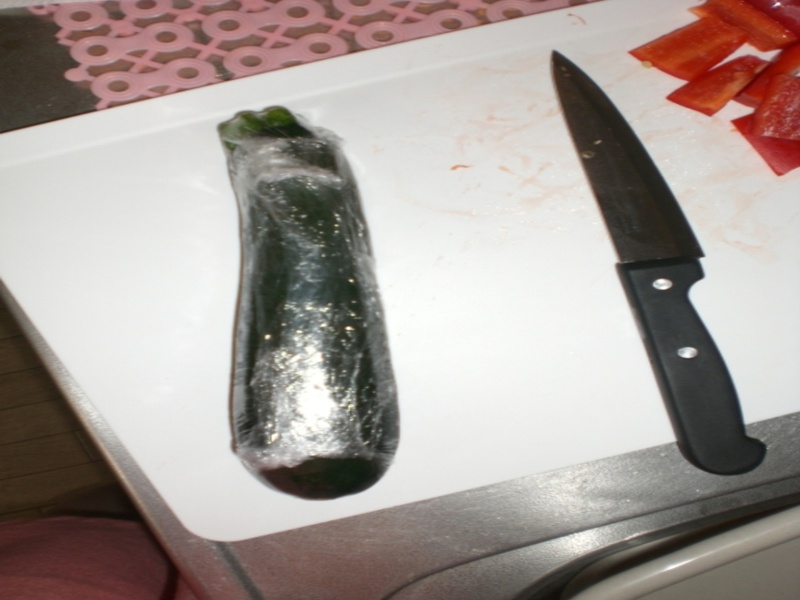knife: (549, 47, 769, 477)
